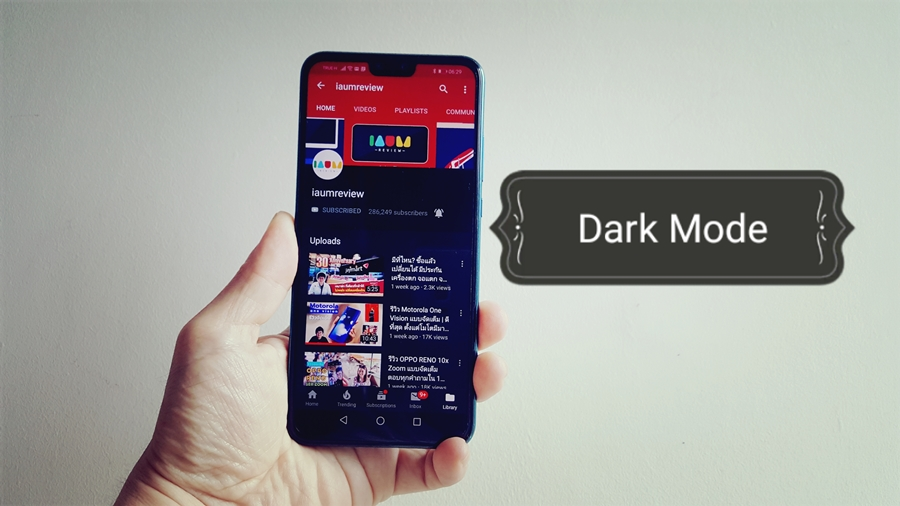Phone: (285, 50, 485, 450)
